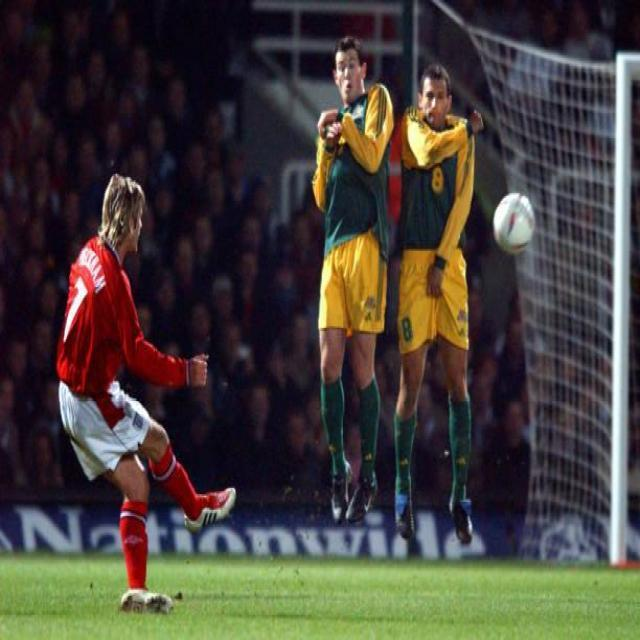ball: (486, 185, 546, 254)
player: (54, 174, 250, 617), (390, 69, 493, 537), (301, 35, 391, 526)
